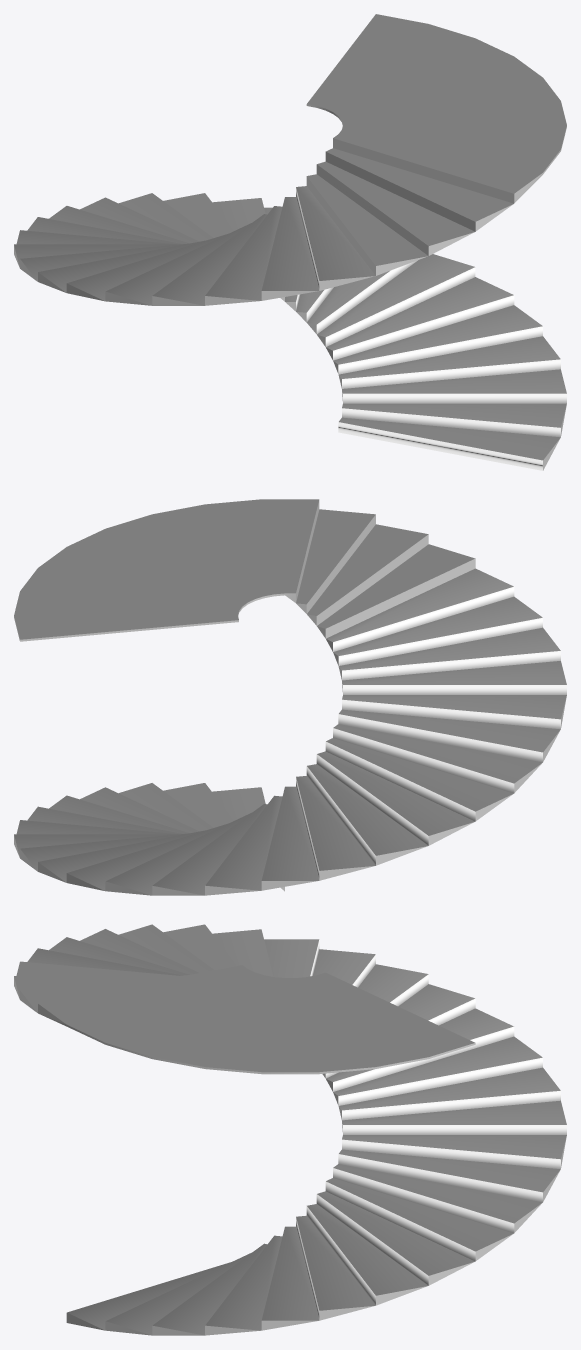
The model's file is Spiral_Stair_Rm_Stair_Top.fbx.
The picture shows the model from 3 angles, top to bottom: view 1: azimuth 30°, elevation 25°; view 2: azimuth 150°, elevation 25°; view 3: azimuth 270°, elevation 25°; orthographic projection.
Visible parts, largest first — view 1: P_Spiral_Stair_Rm_Top; view 2: P_Spiral_Stair_Rm_Top; view 3: P_Spiral_Stair_Rm_Top.
Boxes of the visible parts, x1=… form: P_Spiral_Stair_Rm_Top: x1=14, y1=14, x2=566, y2=470; P_Spiral_Stair_Rm_Top: x1=14, y1=499, x2=566, y2=895; P_Spiral_Stair_Rm_Top: x1=14, y1=924, x2=566, y2=1335.
Size of the model in its own units: 9.96 by 5.96 by 10.01.
